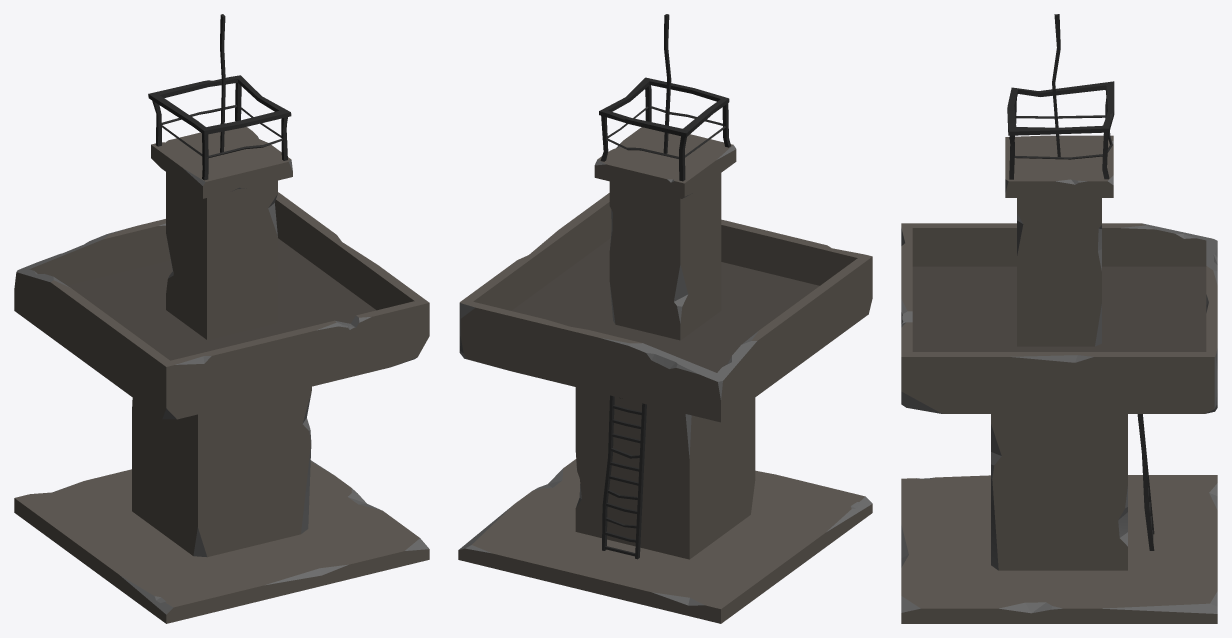
File: 20C_GuardPost001.fbx
3 renders of one model, left to right at view 1: azimuth 30°, elevation 25°; view 2: azimuth 150°, elevation 25°; view 3: azimuth 270°, elevation 25°, orthographic. The views are drawn at different scales.
Visible parts, largest first — view 1: 20C_GuardPost001; view 2: 20C_GuardPost001; view 3: 20C_GuardPost001.
Boxes of the visible parts, box(x1,y1,x2,y2) form: 20C_GuardPost001: box(14, 14, 429, 623); 20C_GuardPost001: box(458, 14, 872, 623); 20C_GuardPost001: box(901, 14, 1217, 623).
Bounding box in the file's own units: 50.06 × 94.81 × 50.06.
